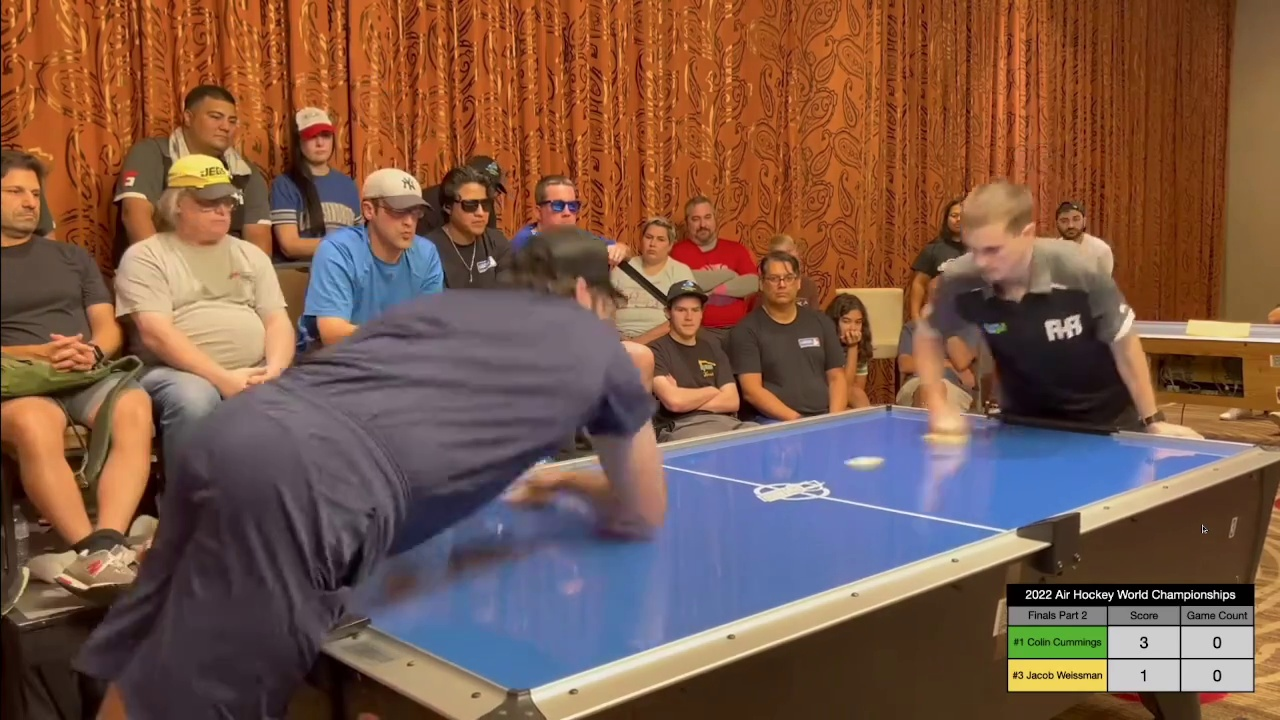player: (917, 415, 974, 447)
puck: (845, 456, 887, 469)
table: (351, 398, 1280, 692)
